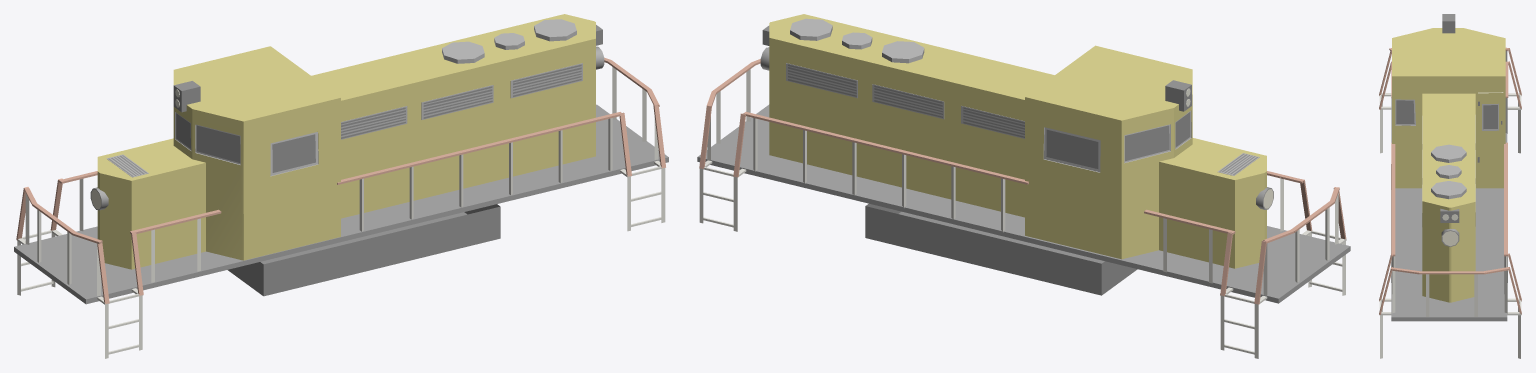
The model's file is props51.fbx.
3 renders of one model, left to right at view 1: azimuth 30°, elevation 25°; view 2: azimuth 150°, elevation 25°; view 3: azimuth 270°, elevation 25°, orthographic. The views are drawn at different scales.
Parts seen in each view (by area): view 1: Cylinder_2; view 2: Cylinder_2; view 3: Cylinder_2.
Part boxes in pixels (x1=…): Cylinder_2: x1=14, y1=14, x2=668, y2=358; Cylinder_2: x1=697, y1=14, x2=1350, y2=358; Cylinder_2: x1=1379, y1=14, x2=1521, y2=358.
Size of the model in its own units: 1521 by 526 by 400.
